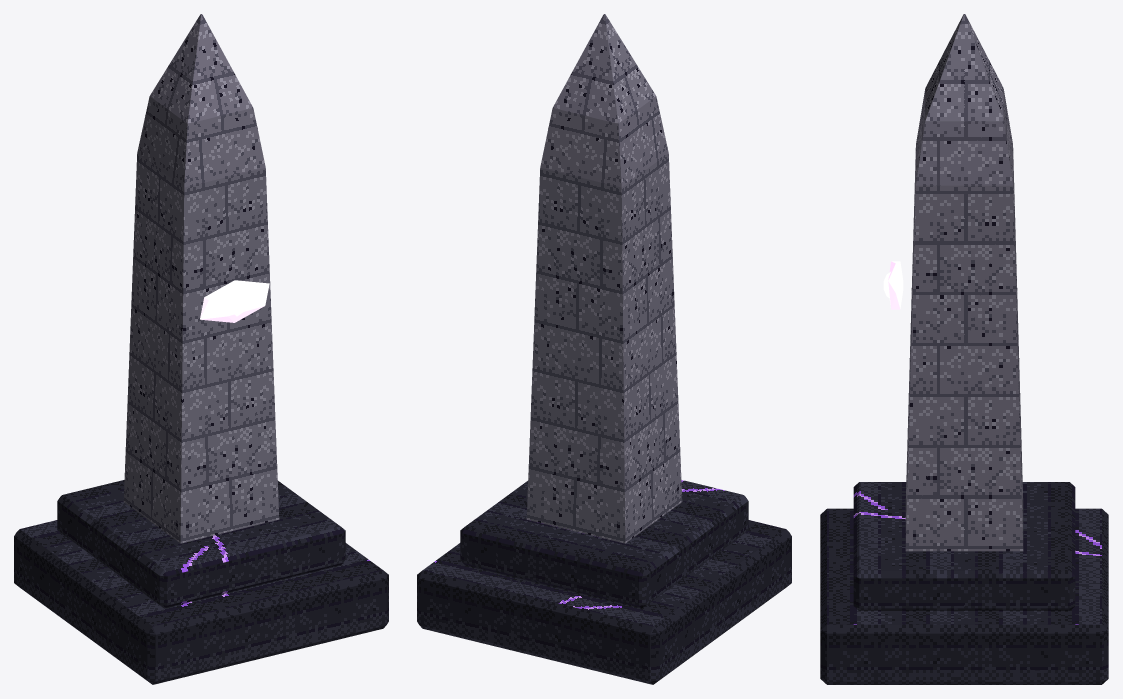
Rendered from rush_statue.glb.
3 renders of one model, left to right at view 1: azimuth 30°, elevation 25°; view 2: azimuth 150°, elevation 25°; view 3: azimuth 270°, elevation 25°, orthographic. The views are drawn at different scales.
Parts seen in each view (by area): view 1: Statue, Glow; view 2: Statue; view 3: Statue, Glow.
Part boxes in pixels (x1,y1,x2,y2): Statue: (14,14,388,684); Glow: (200,280,269,322); Statue: (417,14,791,684); Statue: (820,14,1108,684); Glow: (883,261,903,309).
Size of the model in its own units: 2.6 by 6.1 by 2.6.
Materials: 4 (2 with a texture image).
